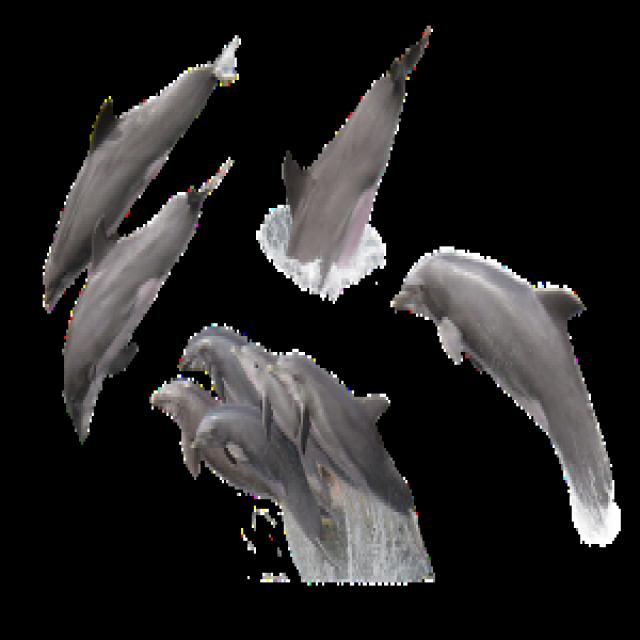Dolphin: (398, 230, 625, 548), (253, 13, 427, 298), (56, 195, 216, 459), (38, 74, 167, 326), (271, 342, 420, 514), (196, 405, 266, 488), (146, 370, 198, 472), (182, 321, 242, 390), (237, 329, 276, 405)
